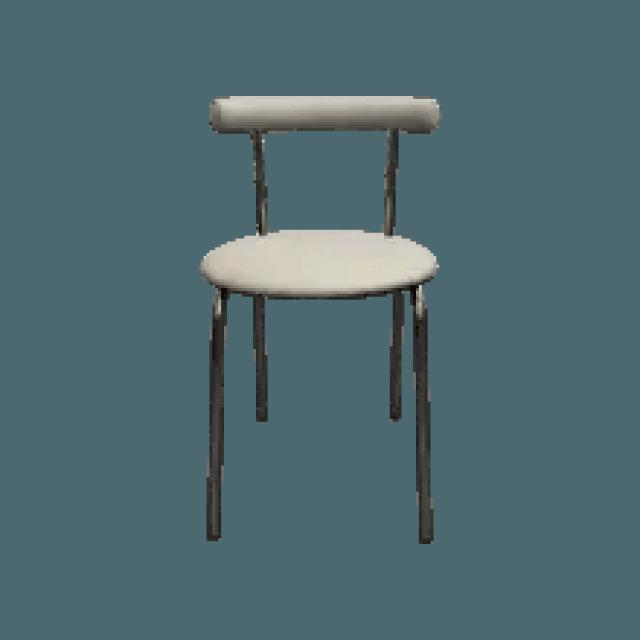chair: (196, 90, 448, 547), (199, 96, 448, 300)
